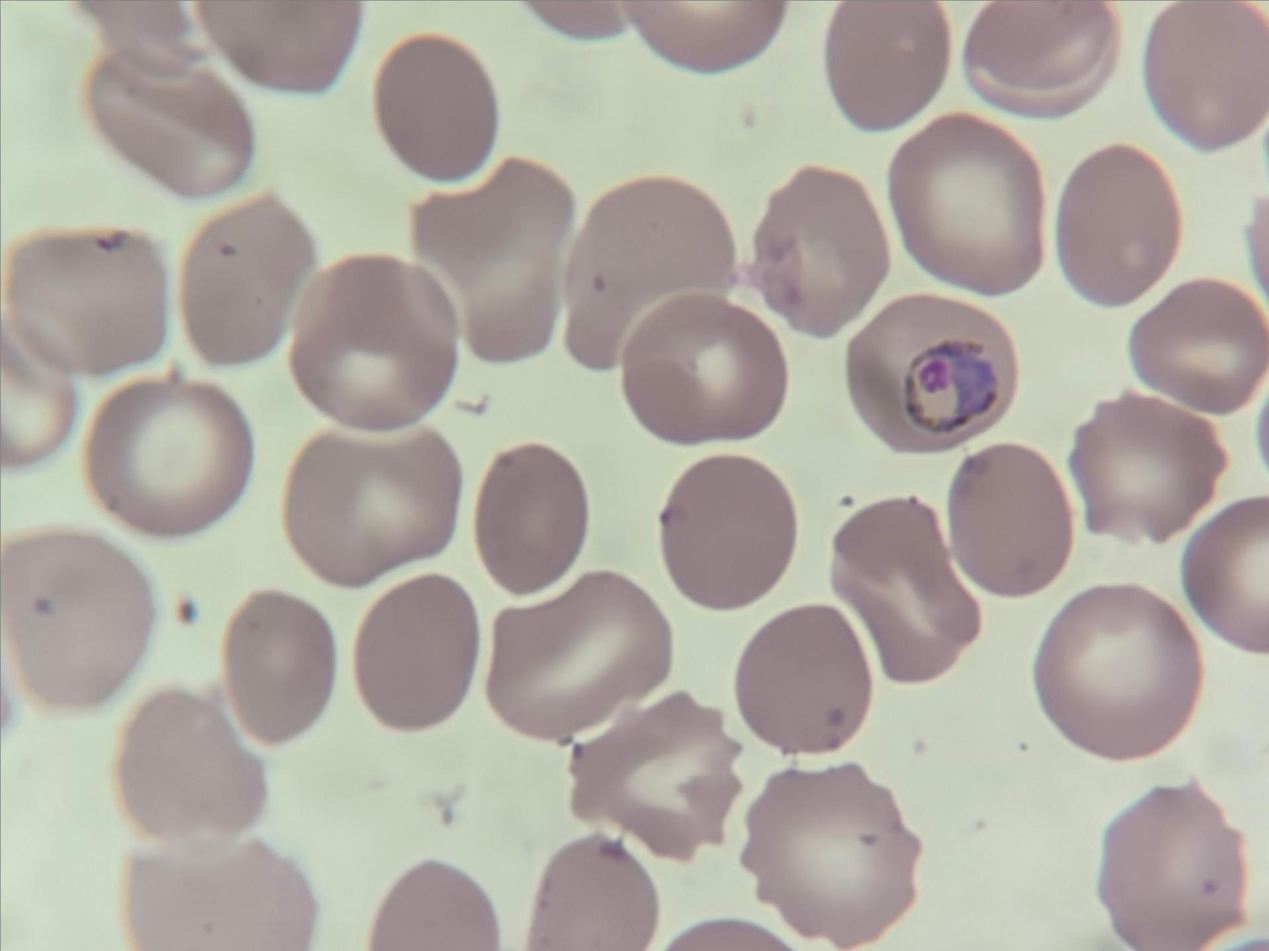Infected: (846, 292, 1015, 456)
Uninfected: (410, 155, 571, 356), (568, 181, 734, 373), (749, 763, 918, 941), (886, 115, 1049, 295), (491, 576, 671, 734), (1093, 781, 1260, 951), (831, 501, 980, 689), (1042, 582, 1196, 762), (293, 258, 454, 430), (291, 424, 460, 587), (0, 525, 148, 711), (84, 375, 250, 539), (573, 692, 736, 852), (86, 45, 244, 204), (623, 292, 786, 445), (115, 688, 266, 849), (185, 195, 320, 365), (1075, 388, 1218, 542), (9, 230, 162, 371), (753, 173, 883, 337), (661, 448, 790, 606), (352, 578, 483, 731), (1124, 278, 1269, 415), (736, 607, 871, 753), (1058, 146, 1179, 304), (952, 446, 1071, 605), (372, 36, 493, 187), (223, 587, 338, 744), (482, 446, 589, 597), (516, 840, 654, 951)
